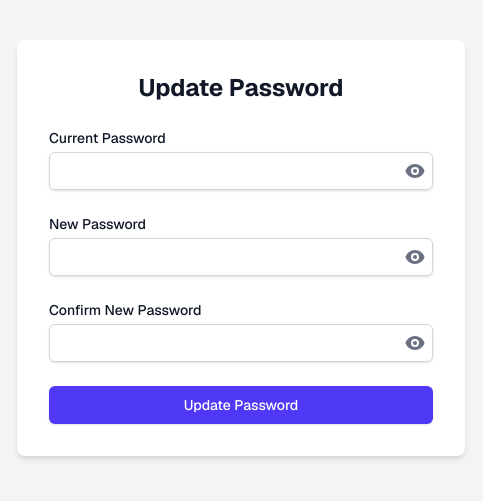
it: UpdatePasswordForm - Comprehensive Tests › Password Complexity Validation › should reject password without uppercase letter
Type "currentpass123" into the password field labelled "Current Password".
click(241, 171); type("currentpass123")  # box [49,152,433,190]
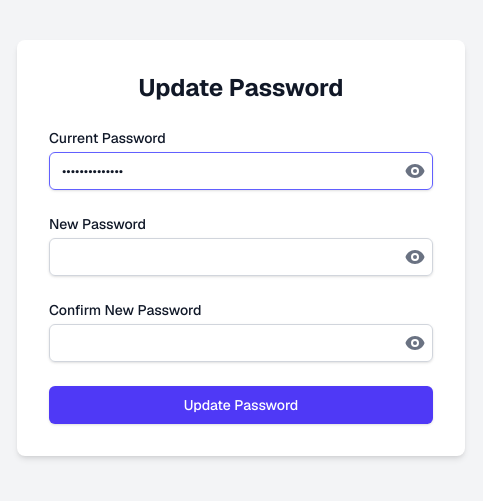
Type "newpass123" into the password field labelled "New Password".
click(241, 257); type("newpass123")  # box [49,238,433,276]
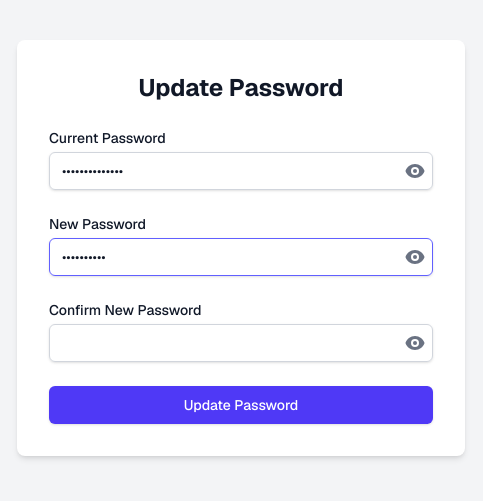
Type "newpass123" into the password field labelled "Confirm New Password".
click(241, 343); type("newpass123")  # box [49,324,433,362]
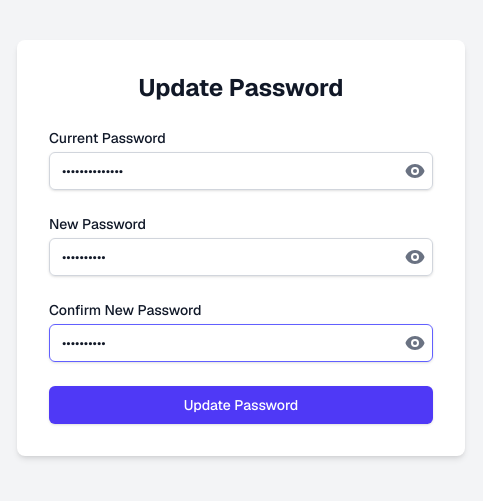
Click the button "Update Password".
click(241, 405)  # box [49,386,433,424]
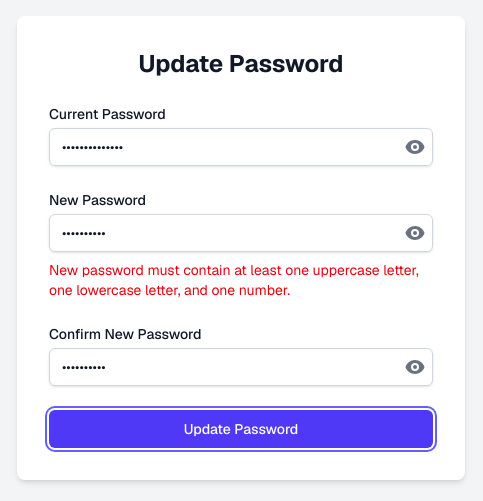
Expected: the text "New password must contain at least one uppercase letter, one lowercase letter, and one number" is shown, [49,261,419,299]
